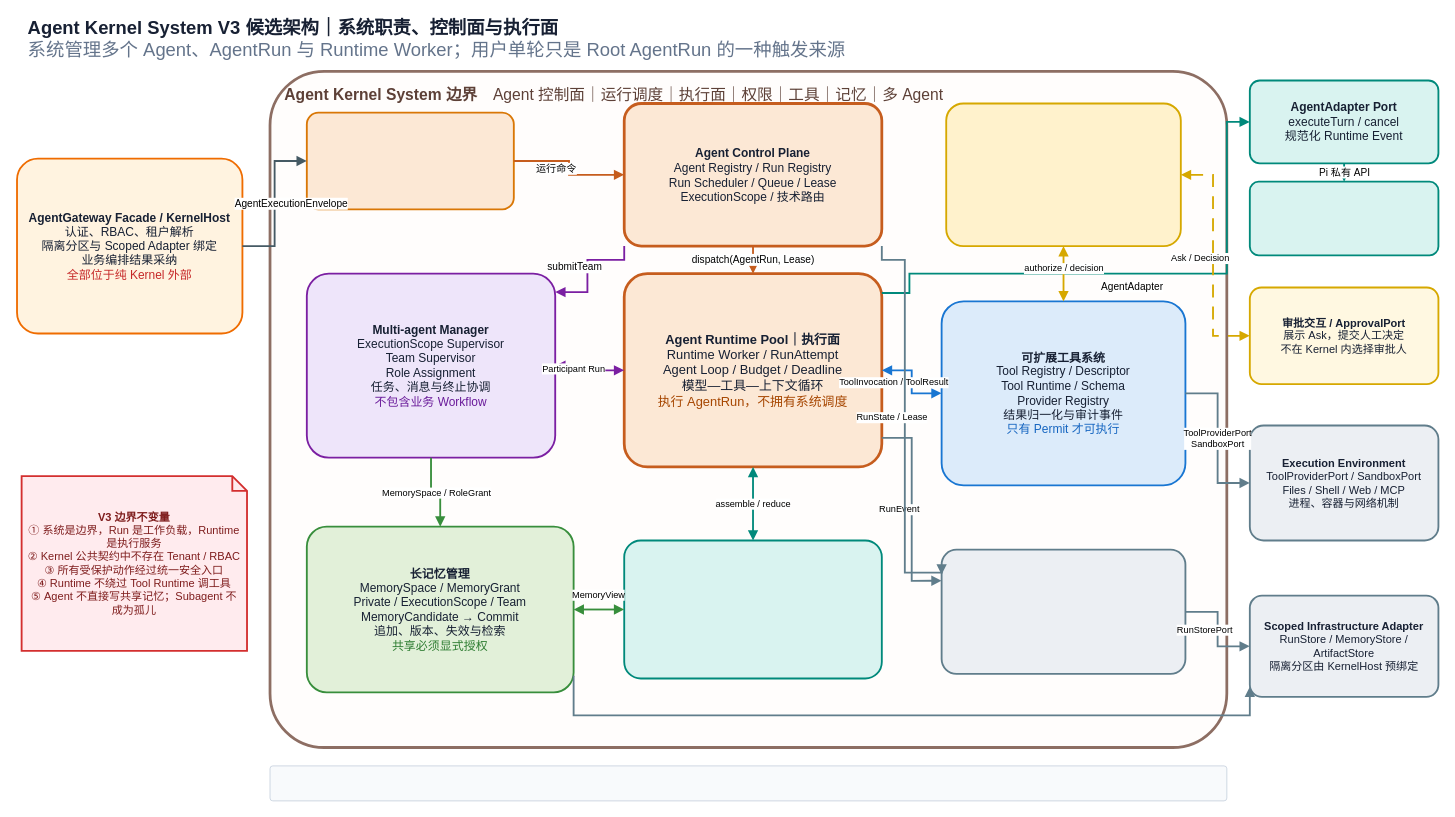
Image size: 1455x817. Some labels were removed from this diagram. The centre of each missing label's shape, as x and y in pixels:
"AgentSystemGateway submitRun / submitTeam get / cancel / events" belongs at (x=409, y=160).
"Context Engine Working Context / Snapshot 预算、选择、压缩、解释 只读取授权 Memory View" belongs at (x=752, y=609).
"Pi / 未来 Runtime Adapter Pi 原生类型不得越界" belongs at (x=1343, y=218).
"权限系统 Policy Engine Capability Grant Allow / Ask / Deny 一次性 ExecutionPermit" belongs at (x=1063, y=174).
"线型 实线＝命令/调用 虚线＝事件/结果 红色虚线＝禁止旁路" belongs at (x=748, y=783).
"运行状态与事件 Run / Scope / Team Journal 状态重建与事件发布" belongs at (x=1063, y=611).
